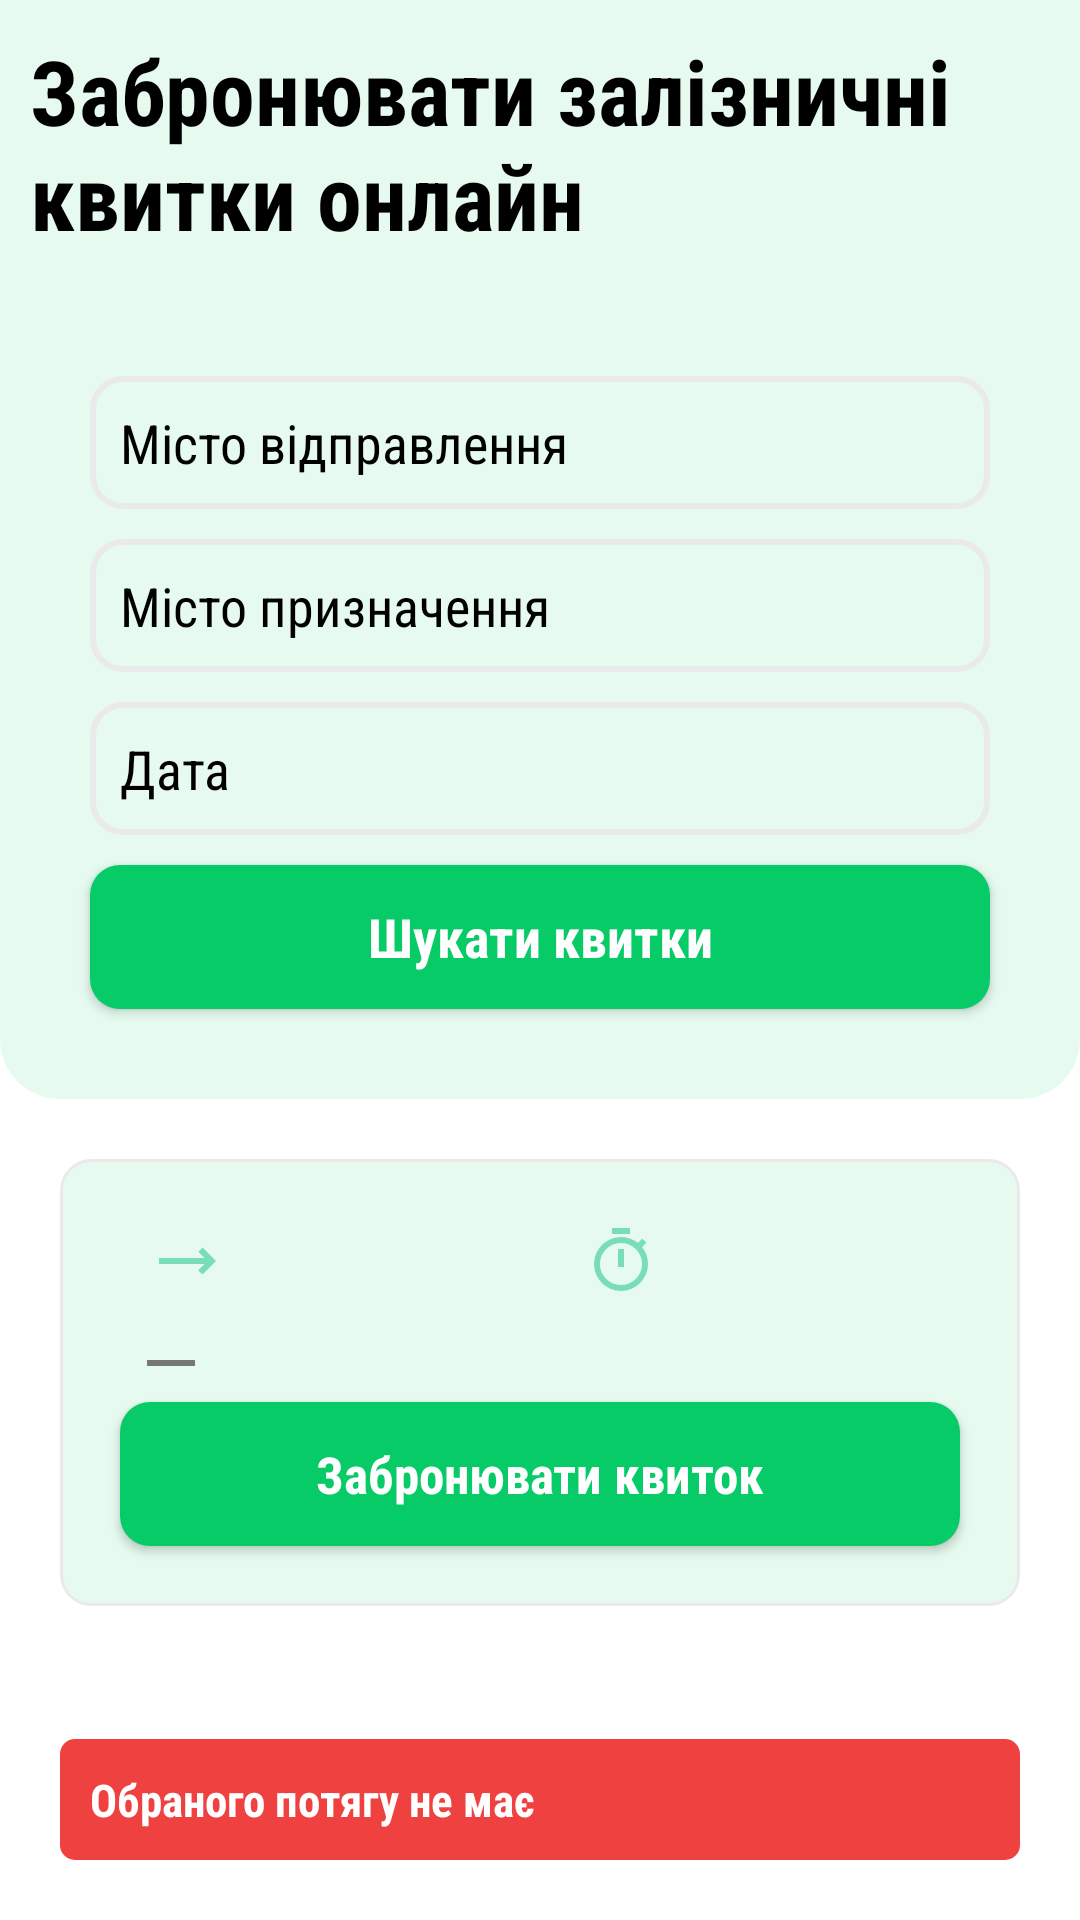

Icon click points for this 1080w x 1920h phone screenshot, format point (x, y):
right arrow: point (187, 1261)
watches: point (621, 1259)
